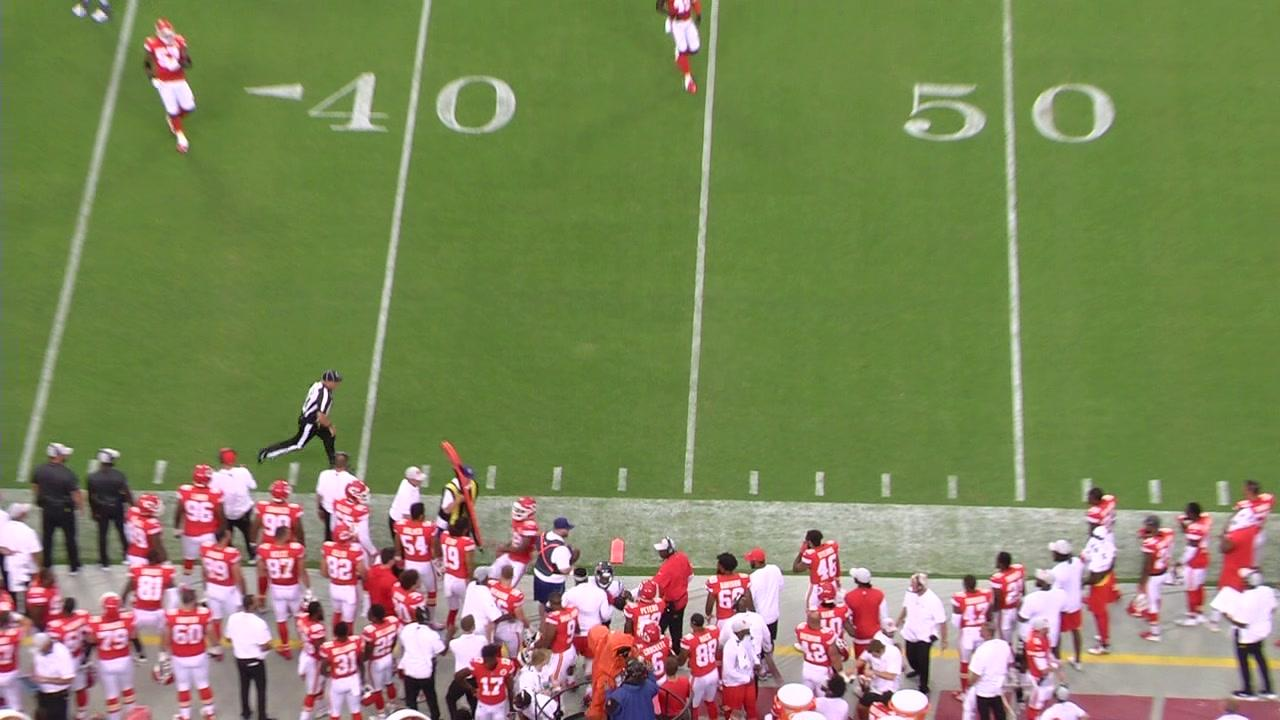number: (312, 65, 518, 145), (904, 75, 1119, 150)
